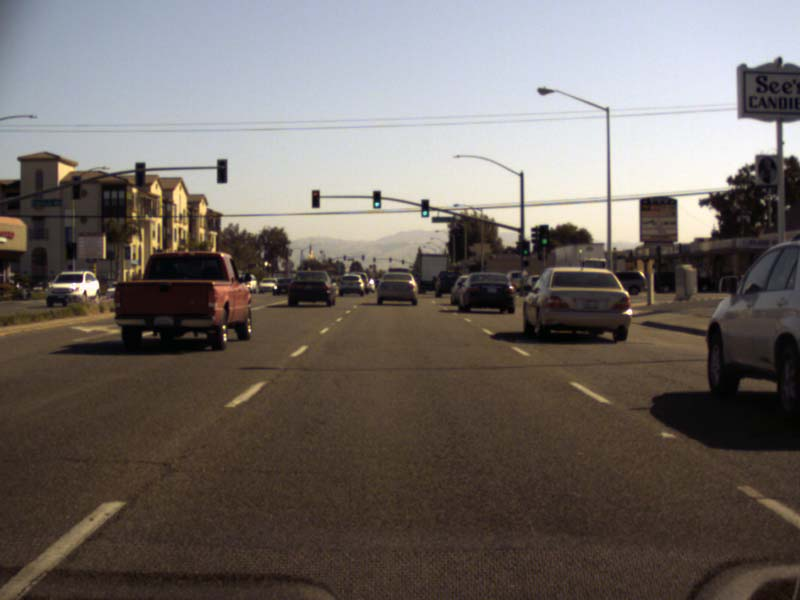Green: (372, 189, 380, 208), (540, 225, 547, 246), (421, 199, 428, 217), (521, 240, 528, 255)
Red: (312, 189, 320, 208)
